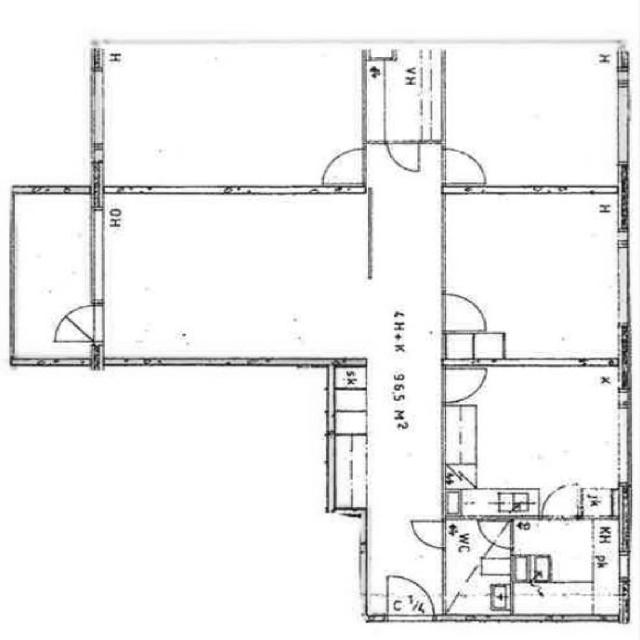door: (439, 143, 491, 189), (315, 145, 368, 189), (440, 289, 491, 333), (386, 572, 436, 616), (52, 302, 102, 344), (441, 365, 490, 407), (538, 484, 584, 520), (407, 516, 449, 553), (384, 138, 423, 176), (476, 516, 514, 554)
window: (82, 206, 112, 306), (498, 353, 598, 372)
zone: (97, 184, 440, 364), (98, 42, 363, 192), (443, 192, 626, 361), (439, 360, 626, 512), (438, 41, 624, 190), (12, 192, 94, 356), (512, 520, 622, 618), (441, 516, 513, 616)
